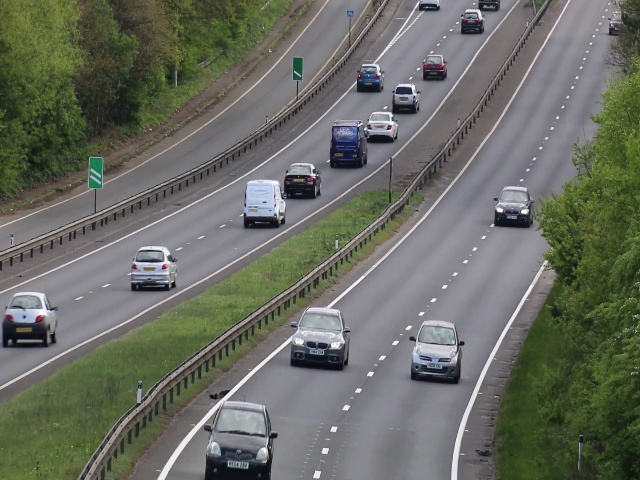car: (202, 399, 274, 480), (290, 301, 351, 370), (409, 318, 462, 383), (3, 292, 57, 347), (243, 177, 287, 228), (130, 245, 177, 292), (329, 120, 368, 168), (495, 182, 533, 229), (285, 163, 322, 197), (367, 110, 397, 143), (356, 63, 384, 92), (394, 82, 419, 112), (422, 53, 449, 78), (461, 8, 485, 34)
